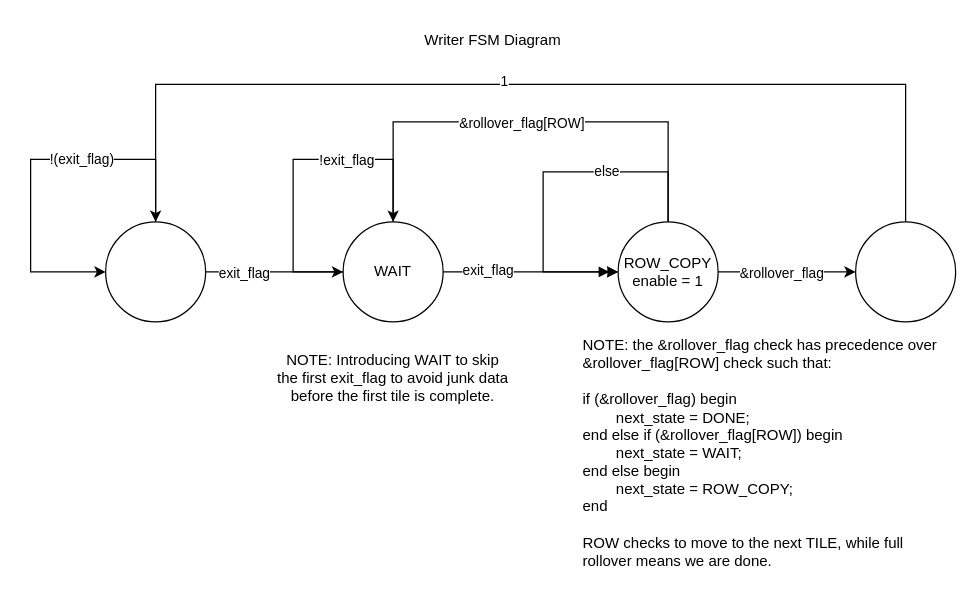
Image size: 978x593. Some labels were removed from this diagram. The shapes that lost their labels are listed below. From the top down, each one's centre as x and y in pixels, then its label:
point (155, 271): IDLE clear = 1
point (905, 271): DONE wdone = 1 clear = 1
